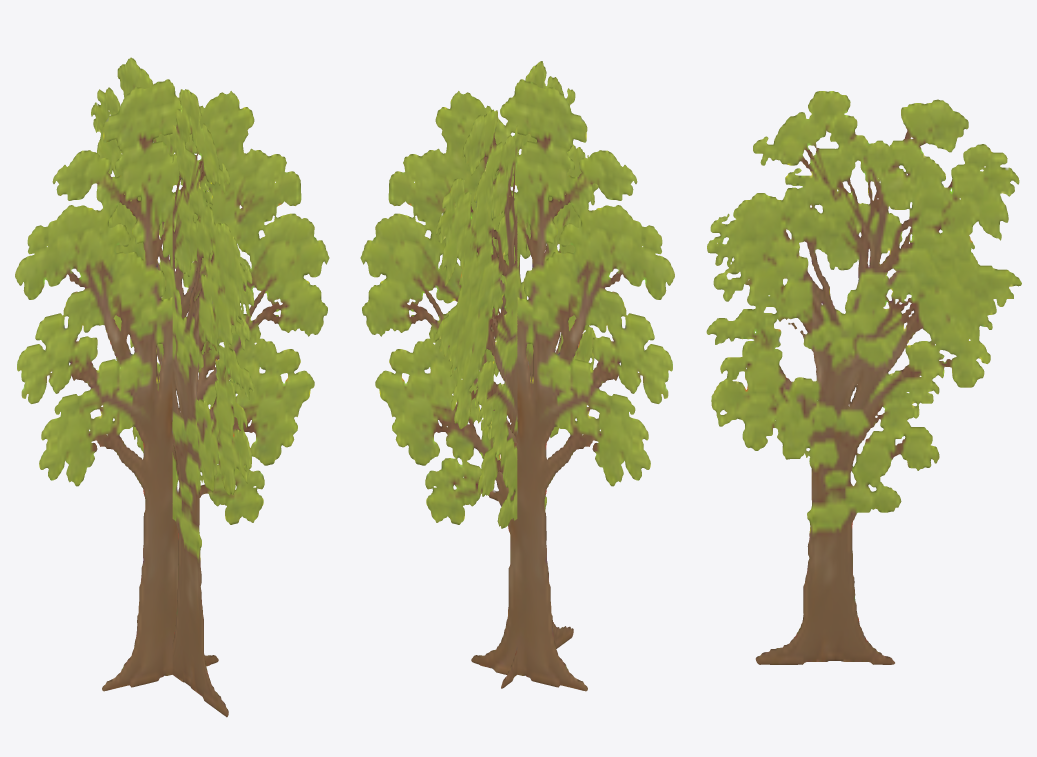
File: tree-3-far.glb
3 renders of one model, left to right at view 1: azimuth 30°, elevation 25°; view 2: azimuth 150°, elevation 25°; view 3: azimuth 270°, elevation 25°, orthographic. The views are drawn at different scales.
Bounding box in the file's own units: 0.5454 × 0.9995 × 0.4966.
1 material, 1 textured.
